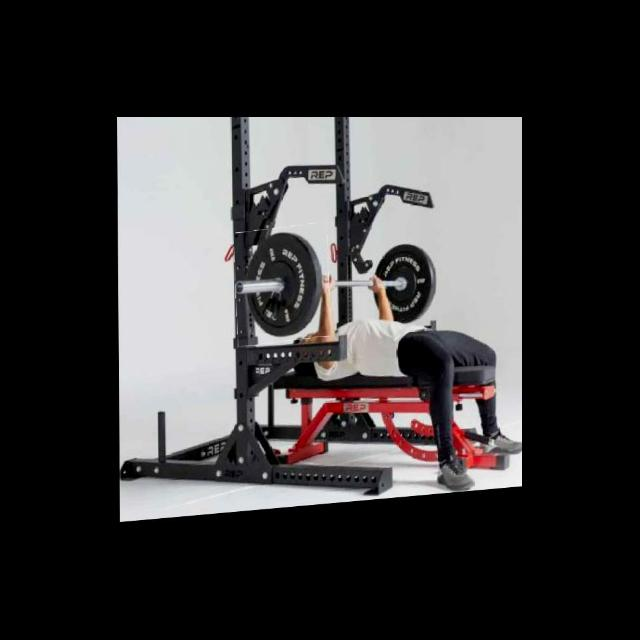barbell: (234, 227, 330, 349)
